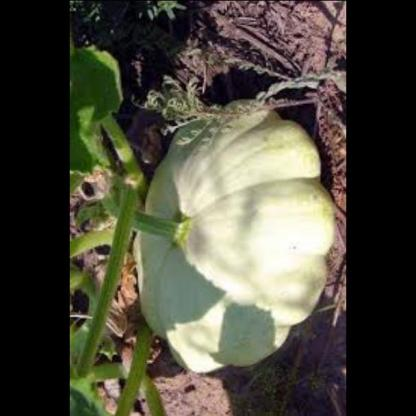squash-patisson: (127, 91, 329, 374)
